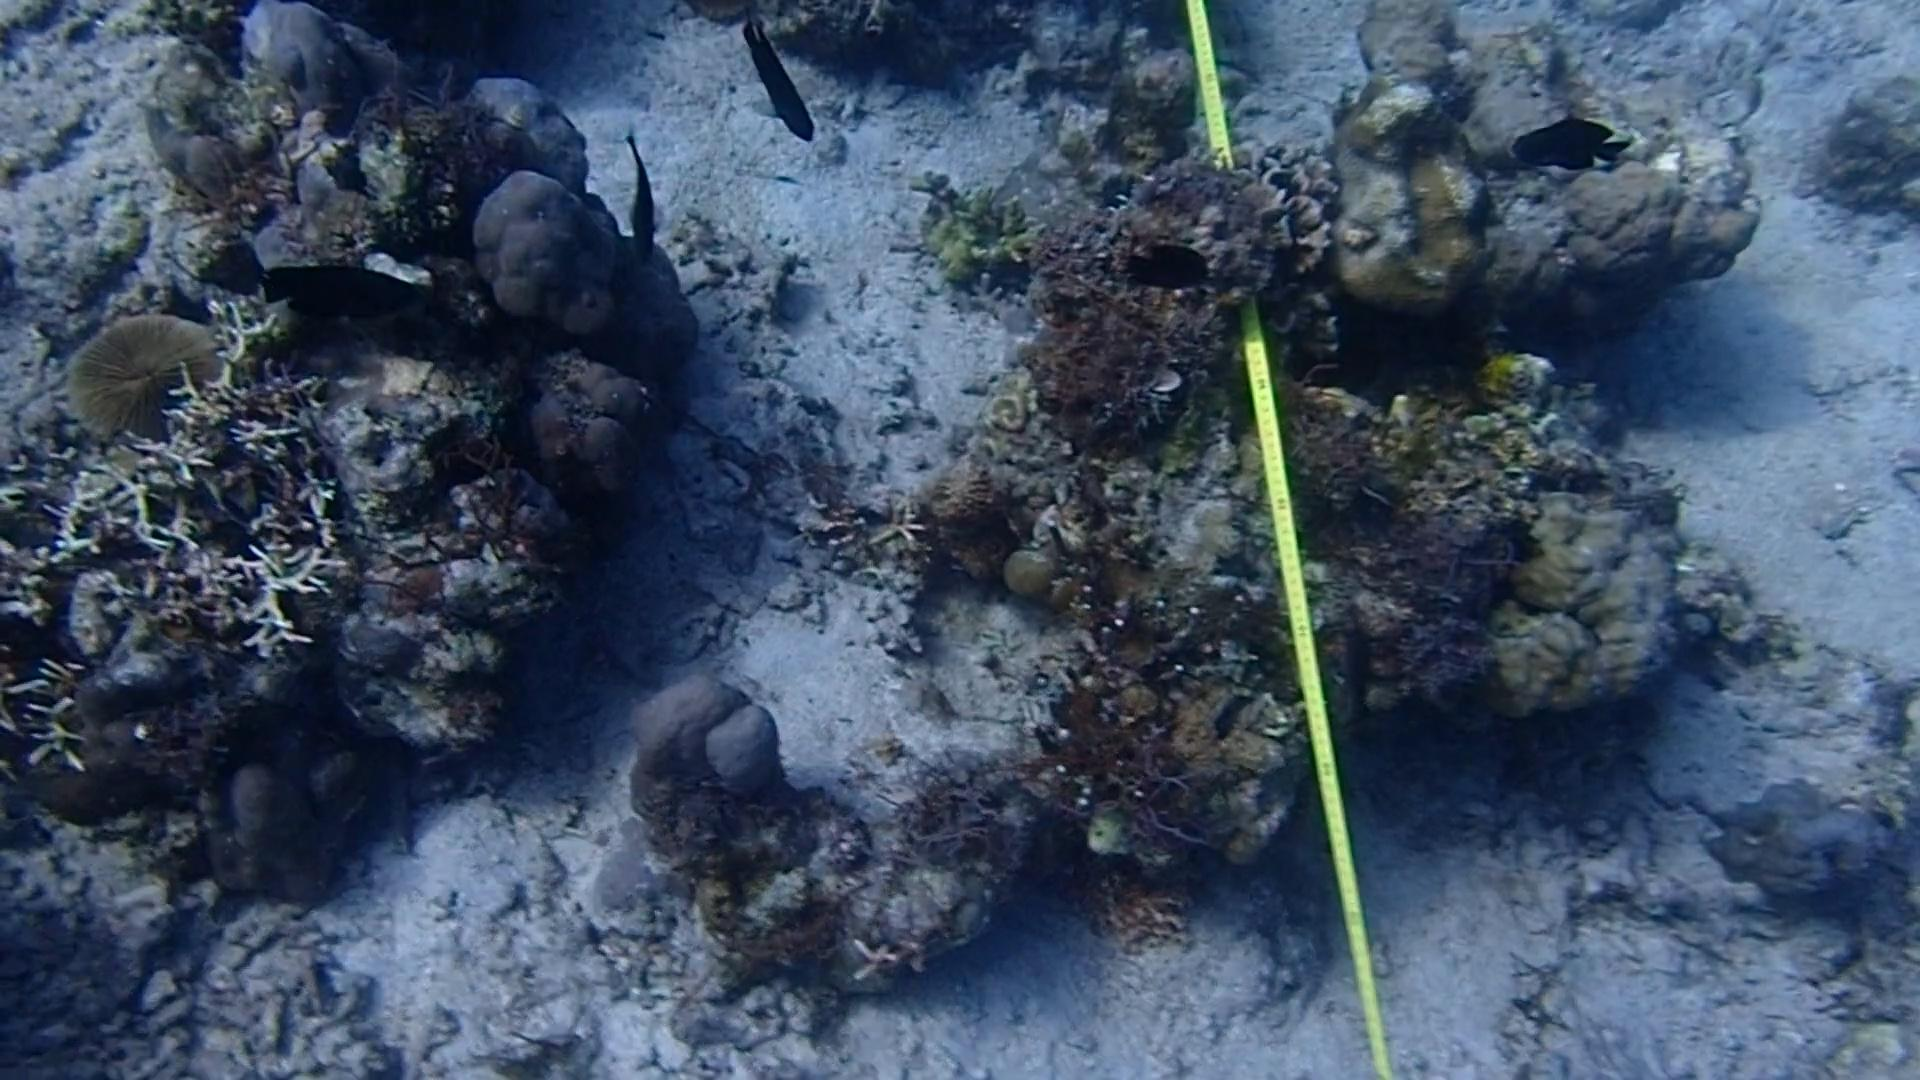Dark Fish: (733, 13, 820, 153), (258, 256, 404, 332), (608, 136, 687, 260), (1323, 608, 1402, 721), (1510, 120, 1629, 182), (1110, 243, 1225, 305)
